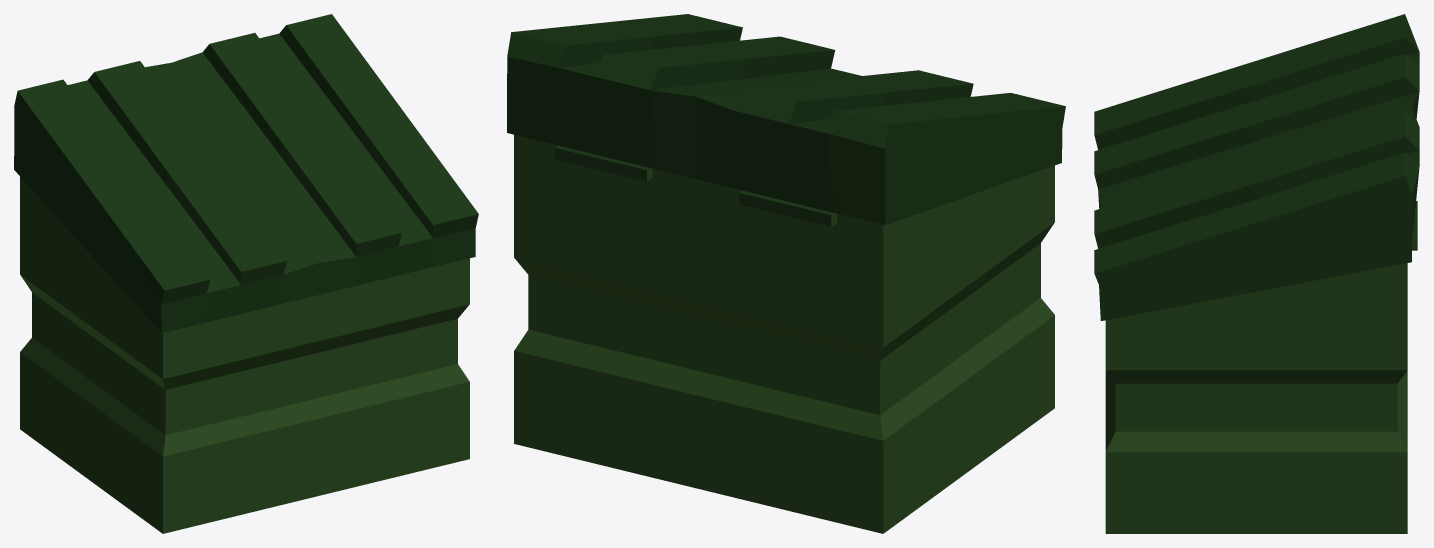
The model's file is Dumpster 1.fbx.
3 renders of one model, left to right at view 1: azimuth 30°, elevation 25°; view 2: azimuth 150°, elevation 25°; view 3: azimuth 270°, elevation 25°, orthographic. The views are drawn at different scales.
Visible parts, largest first — view 1: Dumpster 1; view 2: Dumpster 1; view 3: Dumpster 1.
Part boxes in pixels (x1,y1,x2,y2): Dumpster 1: (14, 14, 478, 533); Dumpster 1: (507, 14, 1065, 533); Dumpster 1: (1094, 14, 1419, 533).
Bounding box in the file's own units: 1.53 × 1.3 × 1.58.
